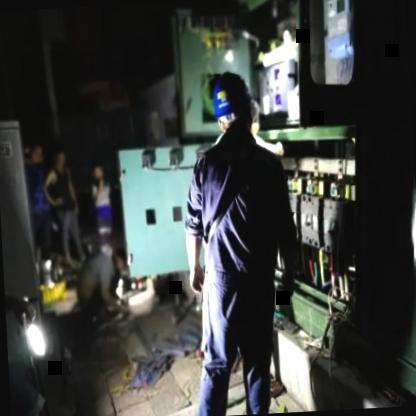helmet: (210, 68, 257, 132)
